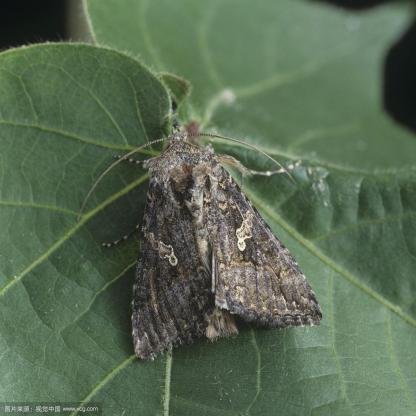armyworm: (91, 114, 333, 352)
